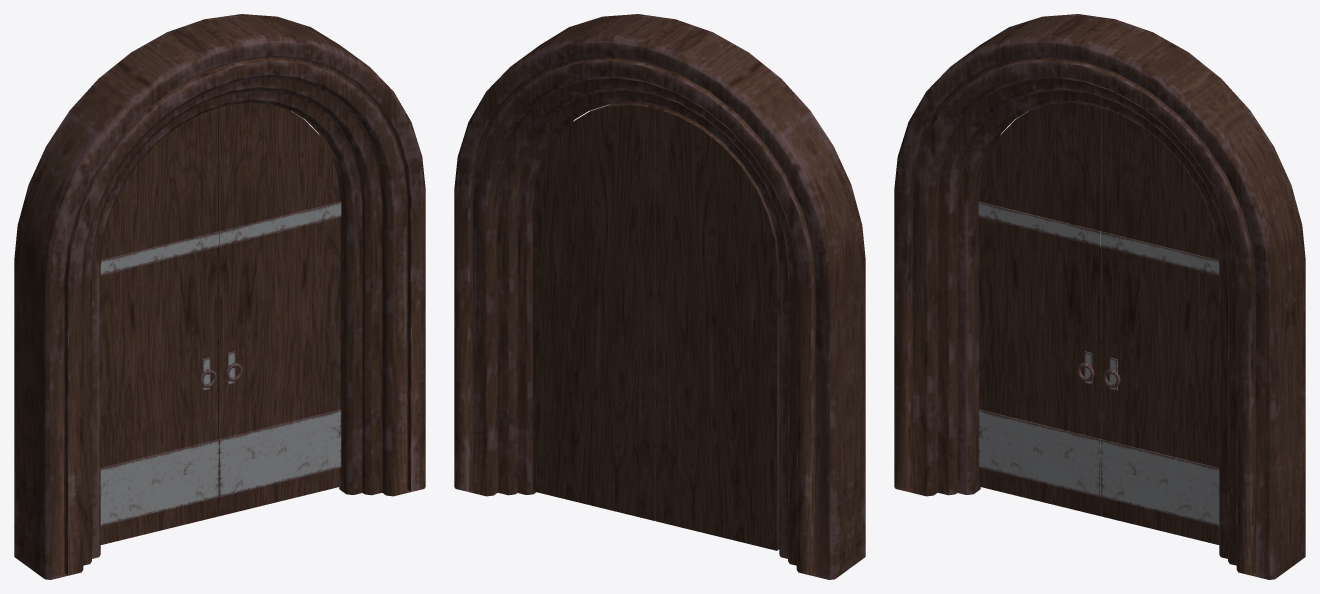
Rendered from Door.fbx.
3 views of the same model, side by side, from view 1: azimuth 30°, elevation 25°; view 2: azimuth 150°, elevation 25°; view 3: azimuth 330°, elevation 25° (orthographic).
Visible parts, largest first — view 1: Cylinder.006; view 2: Cylinder.006; view 3: Cylinder.006.
Boxes of the visible parts, x1=… form: Cylinder.006: x1=14, y1=14, x2=425, y2=579; Cylinder.006: x1=454, y1=14, x2=865, y2=579; Cylinder.006: x1=894, y1=14, x2=1305, y2=579.
Bounding box in the file's own units: 486 × 599 × 77.85.
